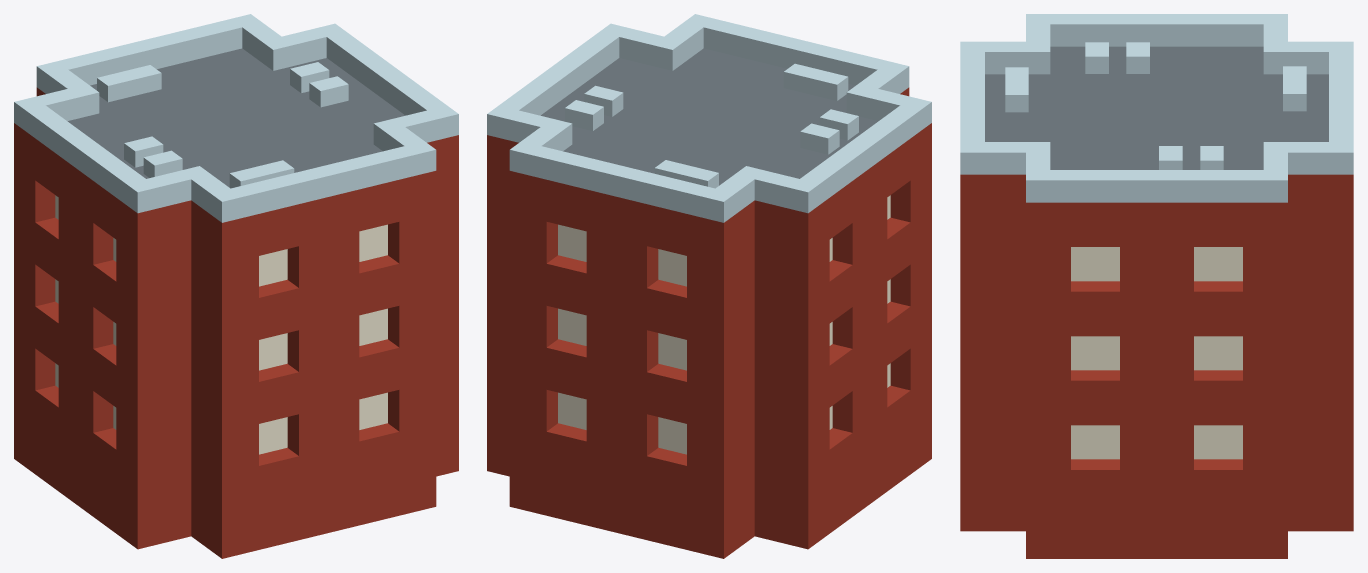
File: Building_4_Extra (Red).obj
The picture shows the model from 3 angles, left to right: view 1: azimuth 30°, elevation 25°; view 2: azimuth 150°, elevation 25°; view 3: azimuth 270°, elevation 25°; orthographic projection. The views are drawn at different scales.
Parts seen in each view (by area): view 1: Building_4_Extra_(Red); view 2: Building_4_Extra_(Red); view 3: Building_4_Extra_(Red).
Boxes of the visible parts, x1,y1,x2,y2 form: Building_4_Extra_(Red): (14,14,458,558); Building_4_Extra_(Red): (487,14,931,558); Building_4_Extra_(Red): (960,14,1353,558).
Bounding box in the file's own units: 1.6 × 1.7 × 1.6.
